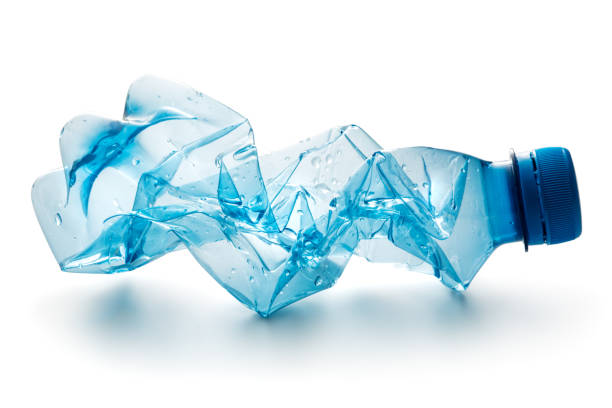plastic_bottle: (32, 78, 582, 319)
